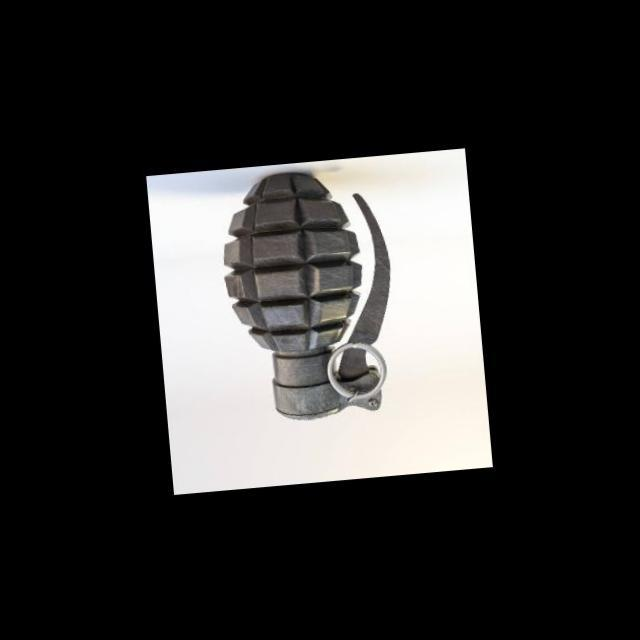grenade: (208, 166, 410, 424)
